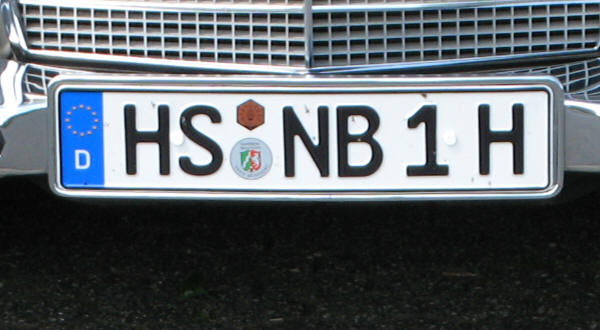license_plate: (56, 85, 552, 194)
